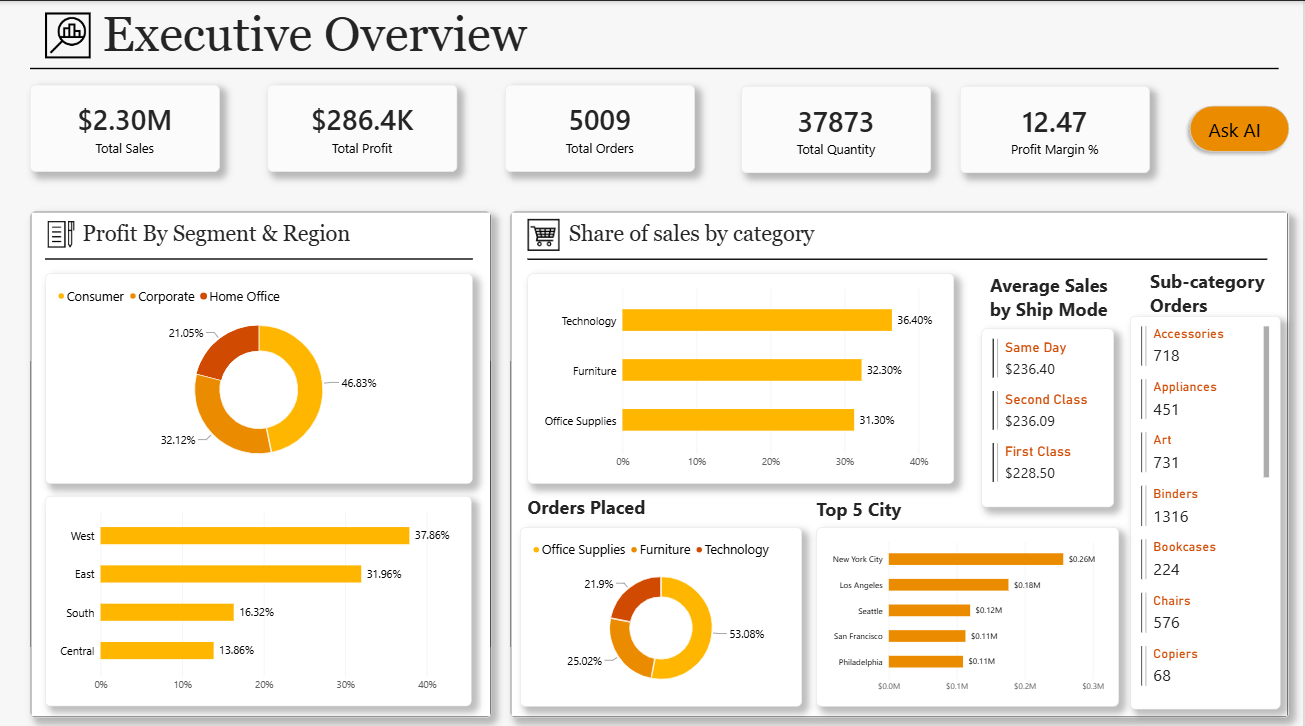

What the dashboard file says about the page in this screenshot:
{"tool":"powerbi","page":{"name":"Executive Overview","canvas":[1920,1080],"ordinal":0},"visuals":[{"type":"shape","box":[44.2,84.7,1838.7,29.4],"z":0},{"type":"textbox","box":[100,100,300,300],"z":1000},{"type":"textbox","box":[150.9,7.4,765.6,88.3],"z":2000},{"type":"image","box":[66.3,16.6,67.2,68.2],"z":3000},{"type":"card","fields":{"Values":["Sum(superstore_cleaned.Sales)"]},"box":[43.3,123.4,279.2,127.7],"z":4000},{"type":"card","fields":{"Values":["Sum(superstore_cleaned.Profit)"]},"box":[393.9,123.4,279.2,127.7],"z":5000},{"type":"card","fields":{"Values":["Count(superstore_cleaned.Order ID)"]},"box":[744.5,123.4,279.2,127.7],"z":6000},{"type":"card","fields":{"Values":["Sum(superstore_cleaned.Quantity)"]},"box":[1090.7,125.5,279.2,127.7],"z":7000},{"type":"shape","box":[43.3,309.5,679.5,746.6],"z":8000},{"type":"shape","box":[67.1,344.1,629.8,71.4],"z":9000},{"type":"image","box":[67.1,324.6,47.2,39.5],"z":10000},{"type":"textbox","box":[121.2,324.6,491.3,54.1],"z":11000},{"type":"donutChart","fields":{"Category":["superstore_cleaned.Segment"],"Y":["Sum(superstore_cleaned.Profit)"]},"box":[67.1,400.4,629.8,309.5],"z":12000},{"type":"clusteredBarChart","fields":{"Category":["superstore_cleaned.Region"],"Y":["superstore_cleaned.Region Profit %"]},"box":[67.1,729.3,627.6,309.5],"z":13000},{"type":"shape","box":[751,309.5,1147,746.6],"z":14000},{"type":"shape","box":[776.9,344.4,1089.2,72.1],"z":15000},{"type":"image","box":[776.9,318.1,47,52],"z":16000},{"type":"textbox","box":[837.4,323.9,416,58.9],"z":17000},{"type":"clusteredBarChart","fields":{"Category":["superstore_cleaned.Category"],"Y":["superstore_cleaned.sales by category %"]},"box":[776.9,400.4,627.6,309.5],"z":18000},{"type":"donutChart","fields":{"Category":["superstore_cleaned.Category"],"Y":["Count(superstore_cleaned.Order ID)"]},"box":[766.1,774.8,415.5,264],"z":19000},{"type":"multiRowCard","fields":{"Values":["Avg(superstore_cleaned.Sales)","superstore_cleaned.Ship Mode"]},"box":[1444.8,482.2,195.1,263.2],"z":20000},{"type":"textbox","box":[776.9,727.2,212.1,60.6],"z":21000},{"type":"textbox","box":[1441.1,399.4,206.1,82.8],"z":22000},{"type":"multiRowCard","fields":{"Values":["superstore_cleaned.Sub-Category","superstore_cleaned.Order ID"]},"box":[1663.2,464.5,221.6,579.3],"z":23000},{"type":"textbox","box":[1693.3,375.5,173,92],"z":24000},{"type":"clusteredBarChart","fields":{"Category":["superstore_cleaned.City"],"Y":["Sum(superstore_cleaned.Sales)"]},"box":[1201.1,774.8,445.8,264],"z":25000},{"type":"textbox","box":[1201.1,729.3,151.5,64.9],"z":26000},{"type":"actionButton","box":[1742.9,145.1,164.3,85.3],"z":27000},{"type":"card","fields":{"Values":["superstore_cleaned.Profit Margin %"]},"box":[1414.4,125.9,279.2,127.7],"z":28000}]}

Visuals, with their boxes in screenshot pixels (x1, y1, x2, y2), scaled from the page's 1920x1080 canvas onto the 1305x726 screenshot:
shape: [left=30, top=57, right=1280, bottom=77]
textbox: [left=68, top=67, right=272, bottom=269]
textbox: [left=103, top=5, right=623, bottom=64]
image: [left=45, top=11, right=91, bottom=57]
card - Sum(superstore_cleaned.Sales): [left=29, top=83, right=219, bottom=169]
card - Sum(superstore_cleaned.Profit): [left=268, top=83, right=457, bottom=169]
card - Count(superstore_cleaned.Order ID): [left=506, top=83, right=696, bottom=169]
card - Sum(superstore_cleaned.Quantity): [left=741, top=84, right=931, bottom=170]
shape: [left=29, top=208, right=491, bottom=710]
shape: [left=46, top=231, right=474, bottom=279]
image: [left=46, top=218, right=78, bottom=245]
textbox: [left=82, top=218, right=416, bottom=255]
donutChart - superstore_cleaned.Segment x Sum(superstore_cleaned.Profit): [left=46, top=269, right=474, bottom=477]
clusteredBarChart - superstore_cleaned.Region x superstore_cleaned.Region Profit %: [left=46, top=490, right=472, bottom=698]
shape: [left=510, top=208, right=1290, bottom=710]
shape: [left=528, top=232, right=1268, bottom=280]
image: [left=528, top=214, right=560, bottom=249]
textbox: [left=569, top=218, right=852, bottom=257]
clusteredBarChart - superstore_cleaned.Category x superstore_cleaned.sales by category %: [left=528, top=269, right=955, bottom=477]
donutChart - superstore_cleaned.Category x Count(superstore_cleaned.Order ID): [left=521, top=521, right=803, bottom=698]
multiRowCard - Avg(superstore_cleaned.Sales) x superstore_cleaned.Ship Mode: [left=982, top=324, right=1115, bottom=501]
textbox: [left=528, top=489, right=672, bottom=530]
textbox: [left=979, top=268, right=1120, bottom=324]
multiRowCard - superstore_cleaned.Sub-Category x superstore_cleaned.Order ID: [left=1130, top=312, right=1281, bottom=702]
textbox: [left=1151, top=252, right=1269, bottom=314]
clusteredBarChart - superstore_cleaned.City x Sum(superstore_cleaned.Sales): [left=816, top=521, right=1119, bottom=698]
textbox: [left=816, top=490, right=919, bottom=534]
actionButton: [left=1185, top=98, right=1296, bottom=155]
card - superstore_cleaned.Profit Margin %: [left=961, top=85, right=1151, bottom=170]
